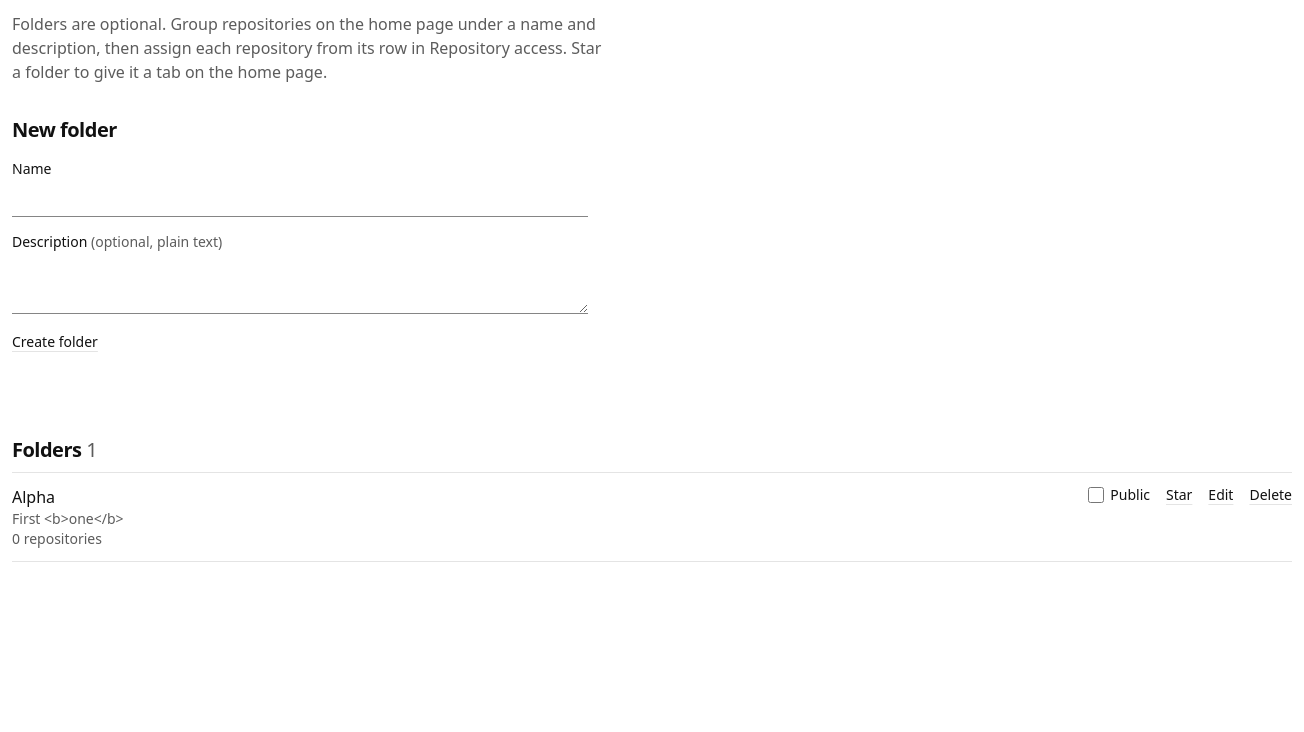
FolderManager › shows a duplicate-name error and keeps the form and list
Type "alpha" into the field labelled "Name". click: point(300, 198)
box: [12,180,588,217]
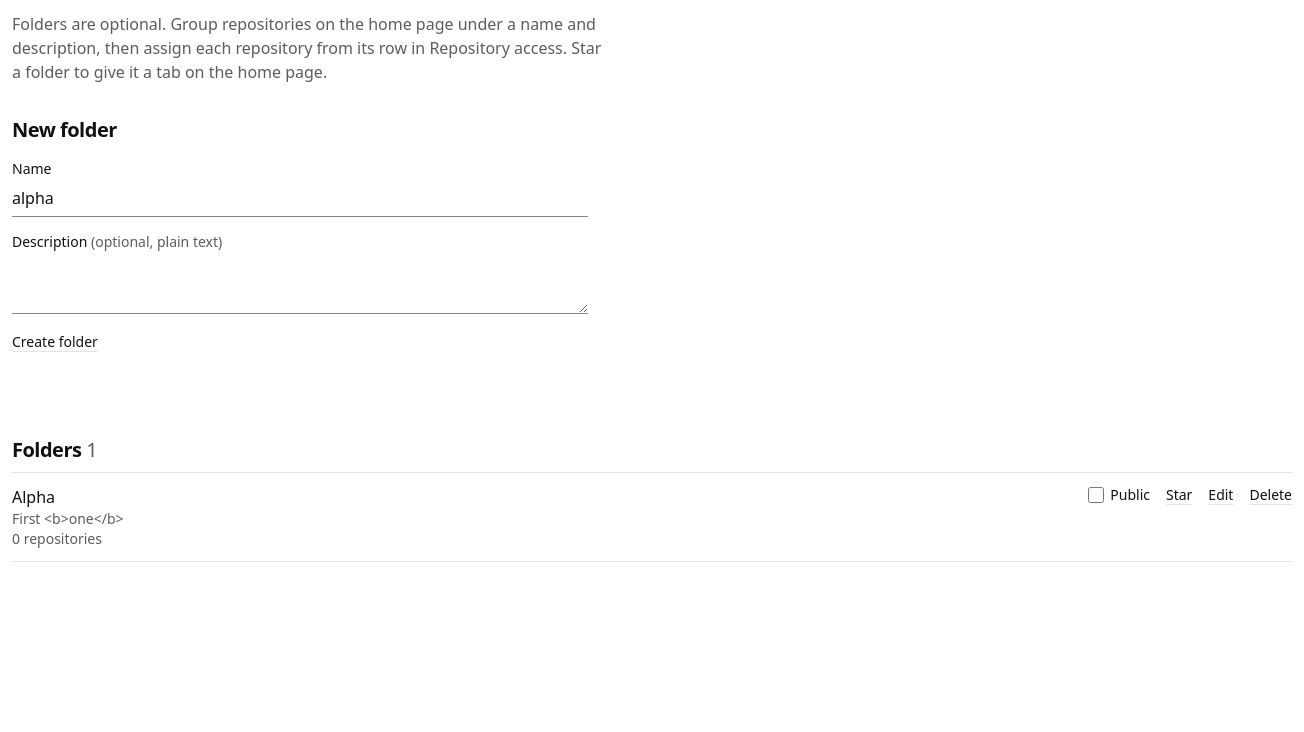
Click the button "Create folder". click: point(55, 342)
box: [12,332,98,352]
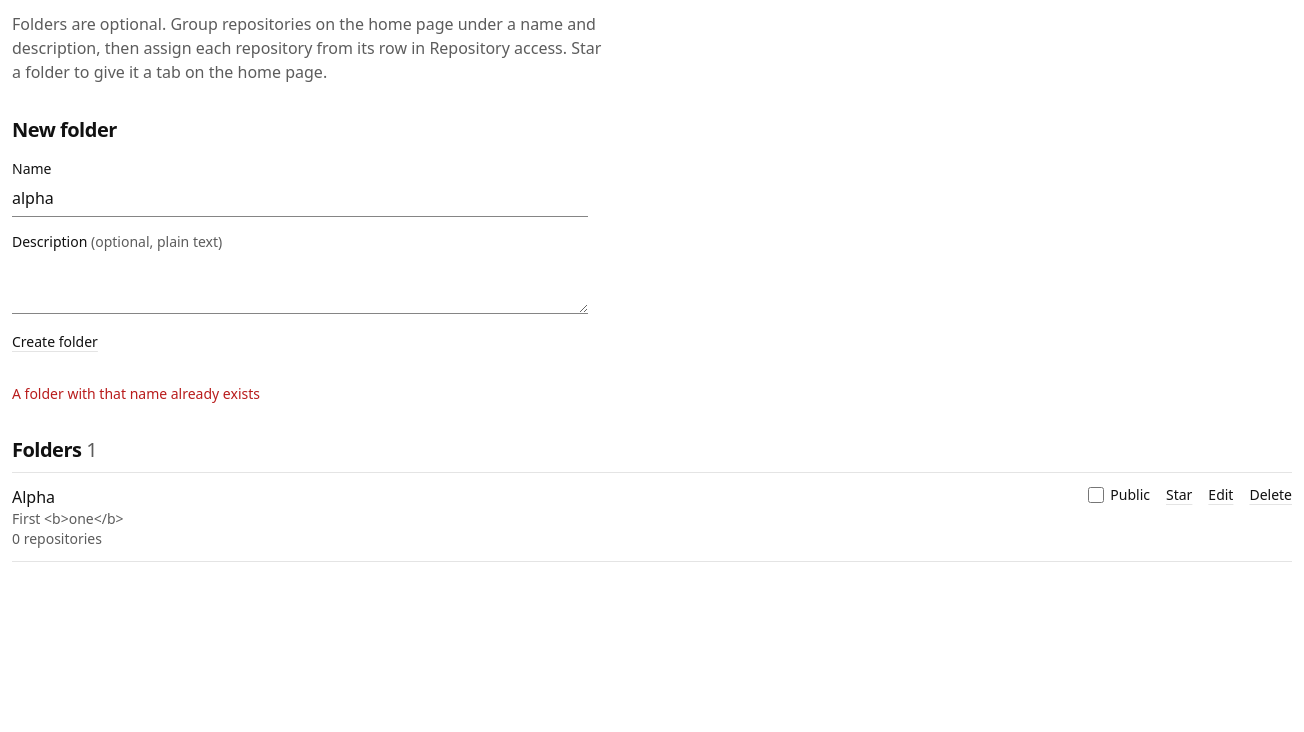
Check: the number of list items is 1, box [12,473,1292,562]
Check: the text "A folder with that name already exists" is shown, box [12,384,260,403]
